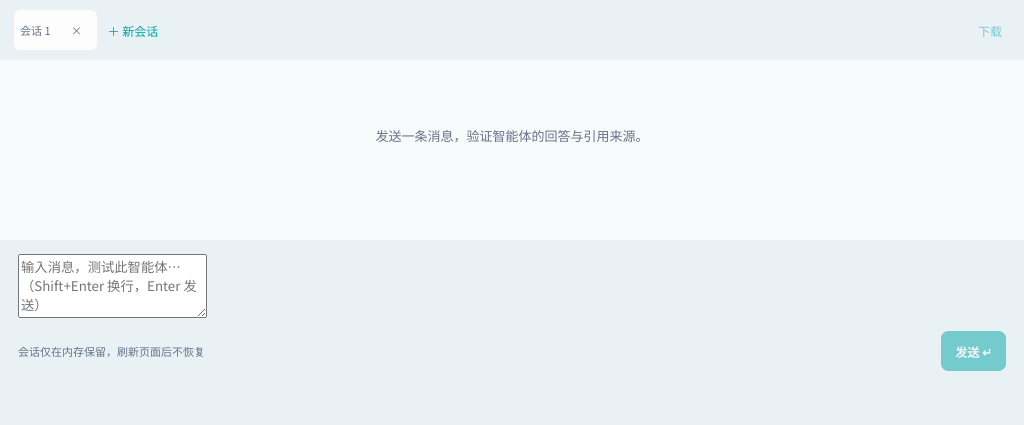
Test: shows export errors without losing the conversation, and hides export for member chat
The width and height of the screenshot is (1024, 425).
Type "问题" into the text box with placeholder "输入消息，测试此智能体…（Shift+Enter 换行，Enter 发送）" at (112, 286), box [18,254,207,318]
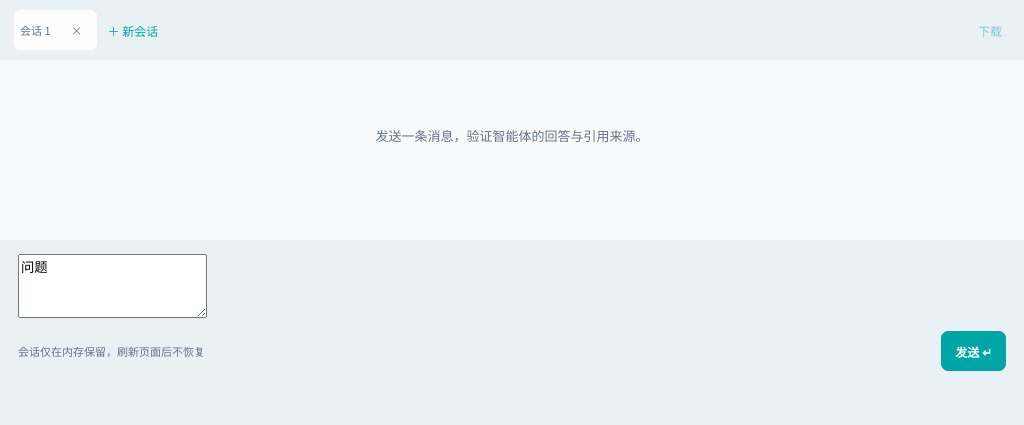
Submit the form, box [0,240,1023,385]
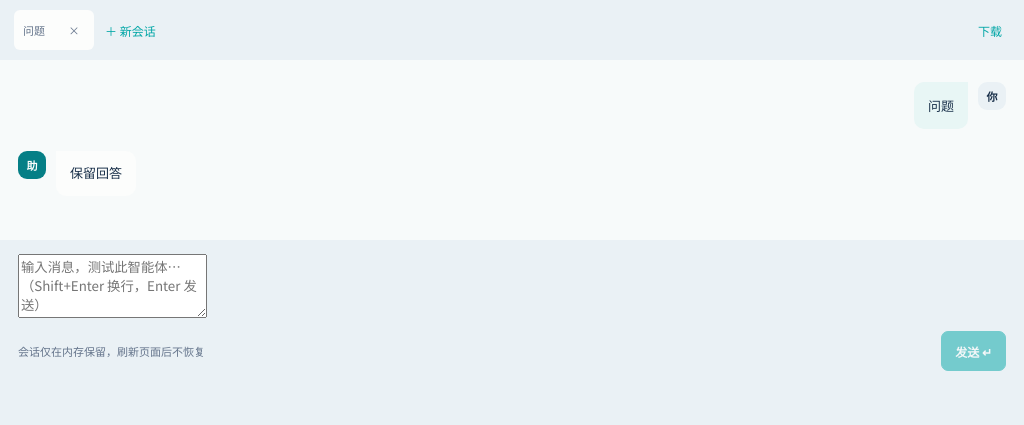
Click the button with test id "export-session" at (990, 30), box [970,10,1010,50]
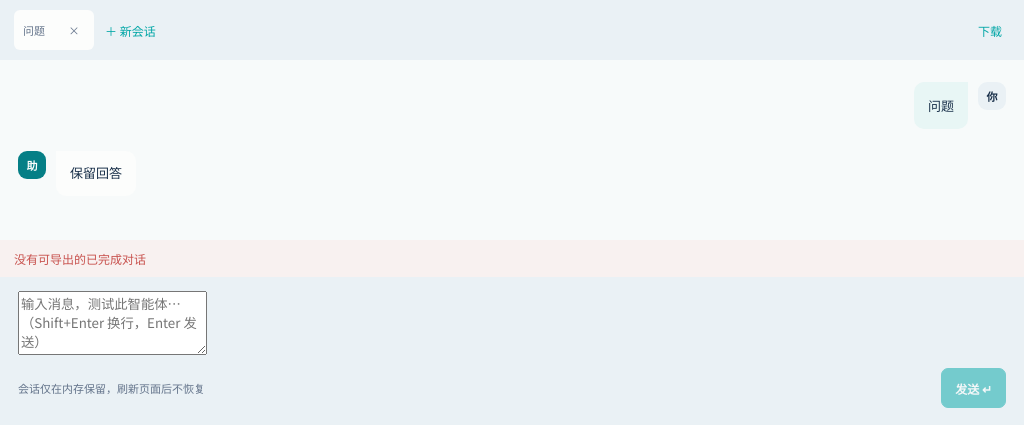
Check: the text "保留回答" is shown, box [70,163,122,184]
Check: the message "没有可导出的已完成对话" is shown, box [0,240,1023,277]
